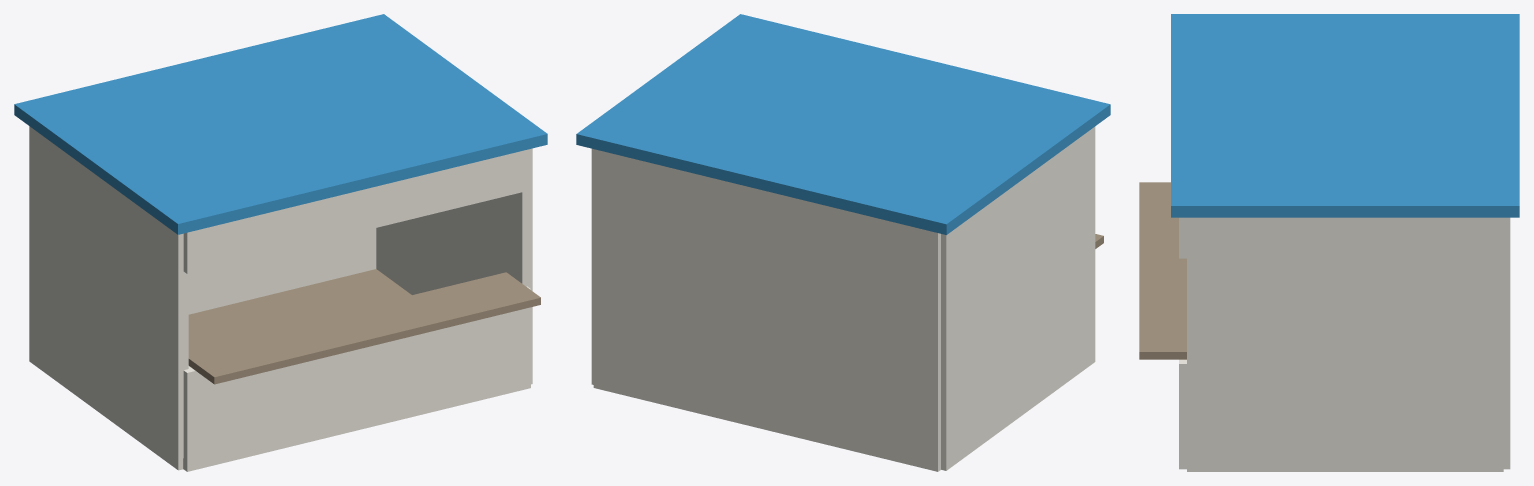
Rendered from stock-car-oval-speedway-concession-stand-95a23c1d__16936.glb.
3 renders of one model, left to right at view 1: azimuth 30°, elevation 25°; view 2: azimuth 150°, elevation 25°; view 3: azimuth 270°, elevation 25°, orthographic. The views are drawn at different scales.
Visible parts, largest first — view 1: concession-stand; view 2: concession-stand; view 3: concession-stand.
Part boxes in pixels (left/top/right/bottom): concession-stand: left=14, top=14, right=547, bottom=471; concession-stand: left=576, top=14, right=1110, bottom=471; concession-stand: left=1139, top=14, right=1519, bottom=471.
Bounding box in the file's own units: 4.3 × 2.82 × 3.6.
